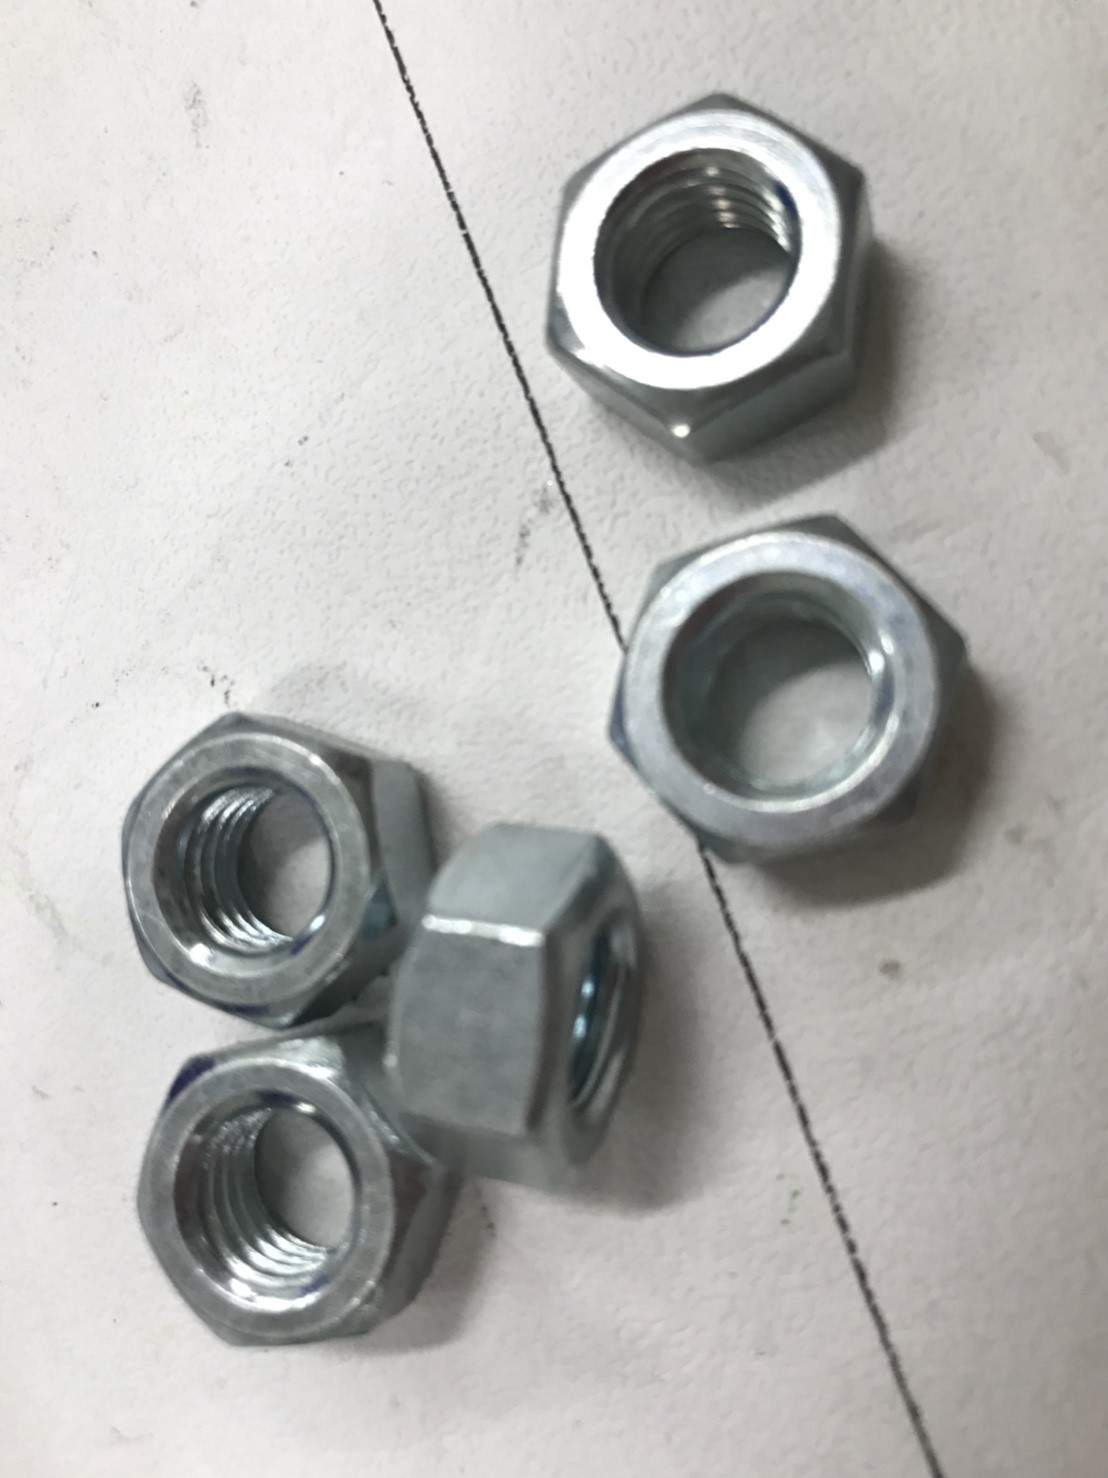nut: (532, 81, 888, 468), (601, 500, 967, 866), (105, 697, 449, 1029), (385, 831, 677, 1181), (123, 1036, 440, 1355)
